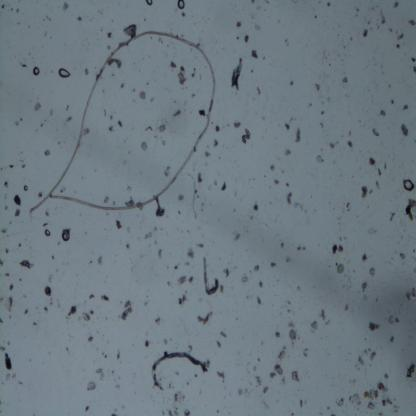Air bubble: (401, 178, 415, 192), (58, 66, 72, 78), (31, 65, 40, 77), (43, 226, 52, 238), (178, 0, 186, 10), (22, 183, 28, 193), (146, 0, 154, 6)
Background material: (186, 170, 198, 221), (403, 195, 416, 224), (286, 322, 300, 343), (121, 299, 133, 323), (235, 384, 252, 399), (197, 311, 214, 326), (0, 292, 13, 311), (178, 63, 187, 88), (154, 200, 166, 218), (348, 392, 362, 407), (268, 365, 284, 378), (3, 352, 13, 372), (241, 127, 252, 145), (172, 390, 186, 404), (124, 23, 138, 37), (106, 58, 122, 70), (378, 6, 388, 25), (294, 126, 304, 145), (369, 319, 383, 332), (406, 362, 416, 380), (177, 292, 189, 307), (285, 188, 294, 208), (249, 45, 260, 61), (405, 285, 416, 301), (20, 258, 36, 269), (60, 226, 70, 243), (82, 309, 95, 322), (332, 242, 345, 255), (290, 368, 300, 384), (276, 346, 286, 362), (160, 408, 180, 416), (85, 379, 97, 392), (253, 374, 264, 388), (13, 191, 22, 208), (310, 317, 320, 332), (96, 367, 106, 382), (383, 395, 394, 408), (327, 140, 340, 151), (376, 383, 389, 394), (400, 123, 410, 137), (360, 185, 369, 200), (364, 391, 379, 400), (67, 304, 77, 317), (335, 262, 345, 275), (222, 266, 232, 279), (14, 114, 23, 128), (63, 113, 74, 124), (282, 147, 292, 159), (172, 259, 182, 271), (197, 170, 205, 185), (216, 369, 225, 382), (232, 119, 242, 130), (152, 315, 162, 326), (190, 67, 200, 78), (336, 397, 346, 408), (172, 108, 182, 119), (316, 153, 325, 165), (4, 370, 13, 382), (368, 155, 377, 167), (387, 316, 400, 324), (378, 108, 388, 118), (232, 232, 242, 242), (340, 76, 350, 86), (407, 18, 416, 29), (366, 226, 377, 235), (318, 309, 327, 320), (115, 218, 122, 232), (302, 346, 310, 358), (235, 18, 243, 30), (358, 355, 366, 367), (44, 285, 52, 297), (178, 274, 186, 286), (158, 122, 166, 134), (164, 165, 171, 178), (256, 294, 263, 307), (100, 293, 110, 302), (126, 198, 135, 208), (74, 12, 83, 22), (370, 128, 380, 137), (219, 329, 228, 339), (33, 102, 42, 112), (198, 108, 206, 119), (396, 32, 404, 43), (241, 274, 249, 285), (369, 350, 377, 361), (82, 126, 90, 137), (188, 248, 195, 260), (23, 304, 29, 318), (255, 84, 262, 96), (243, 32, 250, 44), (156, 248, 163, 260), (298, 396, 304, 410), (14, 206, 21, 218), (218, 283, 224, 297), (176, 192, 185, 201), (183, 408, 193, 416), (253, 263, 261, 273), (143, 230, 153, 238), (252, 202, 260, 212), (402, 103, 410, 113), (122, 240, 130, 250), (262, 385, 270, 395), (114, 350, 122, 360), (145, 124, 155, 132), (389, 211, 396, 222), (141, 140, 148, 151), (296, 245, 307, 252), (362, 27, 369, 38), (117, 119, 124, 130), (144, 338, 151, 349), (411, 57, 416, 72), (273, 330, 281, 339), (169, 61, 178, 69), (258, 278, 264, 290), (362, 280, 368, 292), (362, 252, 368, 264), (96, 254, 102, 266), (216, 338, 222, 350), (367, 402, 376, 410), (61, 3, 68, 13), (347, 140, 354, 150), (42, 304, 49, 314), (87, 334, 94, 344), (370, 266, 376, 277), (314, 82, 320, 93), (288, 77, 294, 88), (82, 68, 90, 76), (88, 292, 96, 300), (119, 82, 127, 90), (196, 242, 204, 250), (106, 31, 114, 39), (270, 260, 277, 269), (2, 225, 8, 235), (284, 122, 290, 132), (256, 354, 262, 364), (346, 202, 352, 212), (102, 106, 107, 118), (221, 182, 227, 192), (273, 178, 280, 186), (318, 121, 325, 129), (188, 276, 195, 284), (82, 404, 89, 412), (110, 411, 121, 416), (104, 195, 110, 204), (45, 148, 51, 157), (212, 139, 218, 148), (16, 7, 22, 16), (390, 334, 395, 344), (344, 302, 349, 312), (107, 126, 114, 133), (44, 209, 51, 216), (279, 242, 286, 249), (399, 253, 406, 260), (270, 164, 276, 172), (374, 180, 380, 188), (140, 92, 146, 100), (9, 283, 15, 291), (64, 104, 70, 112), (215, 124, 220, 133), (37, 188, 42, 197), (4, 245, 9, 254), (5, 271, 11, 278), (180, 11, 186, 18), (254, 24, 260, 31), (390, 98, 396, 105), (32, 320, 38, 327), (0, 258, 5, 266), (376, 166, 380, 176), (102, 352, 107, 360), (43, 222, 51, 227), (0, 2, 5, 9), (0, 346, 5, 353), (249, 0, 256, 5), (5, 180, 9, 188), (384, 160, 388, 168), (285, 182, 290, 188), (20, 62, 26, 67), (286, 308, 292, 313), (51, 253, 55, 260), (165, 282, 170, 287), (320, 111, 324, 117), (253, 364, 257, 370), (327, 1, 331, 7), (194, 372, 198, 378), (0, 318, 3, 326), (18, 242, 22, 248), (22, 164, 27, 168), (10, 164, 14, 169)
Cellulose filter fibre: (152, 352, 210, 392), (200, 256, 219, 294), (230, 58, 244, 92)
Microfibre: (30, 31, 216, 214)
